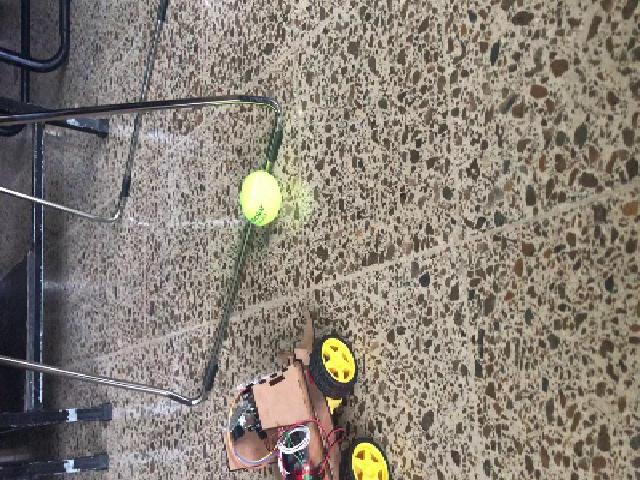Ball: (238, 170, 282, 226)
Robot: (221, 307, 392, 479)
